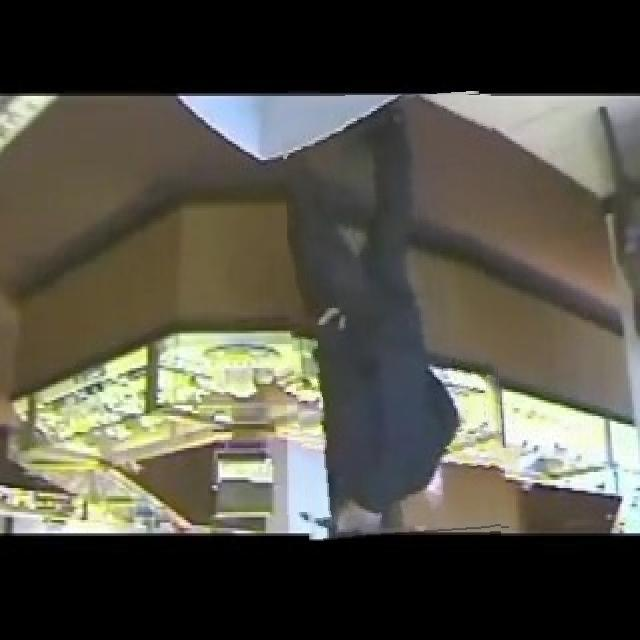normal: (287, 94, 501, 538)
